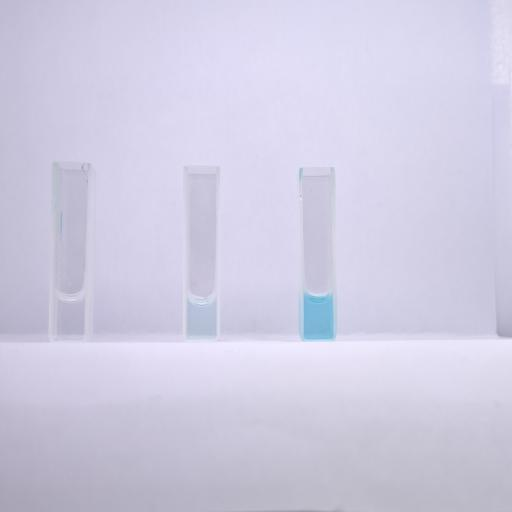cuvette: (47, 157, 95, 346), (296, 165, 339, 344), (181, 162, 222, 346)
liquid: (187, 295, 216, 338), (57, 292, 84, 338), (304, 296, 333, 338)
